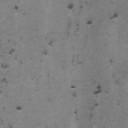oxide scale of temperature system: (71, 58, 119, 124), (0, 48, 23, 128), (66, 2, 94, 36), (41, 40, 54, 56), (109, 12, 119, 20), (76, 53, 83, 64), (13, 4, 19, 11)
